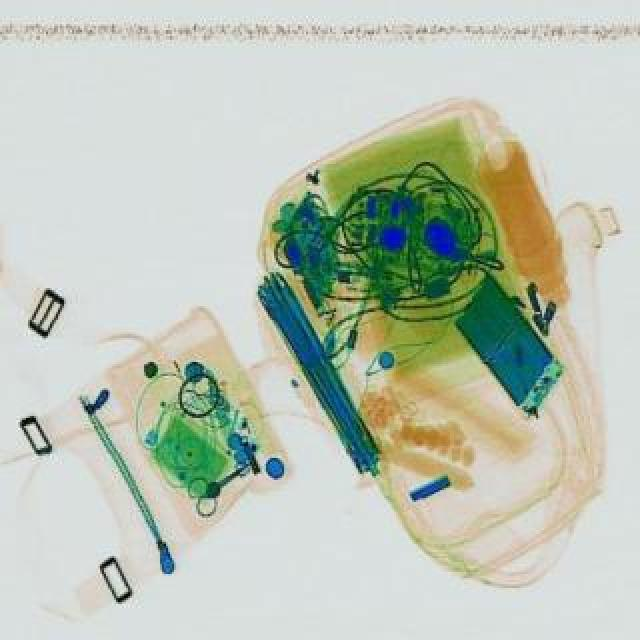pliers: (178, 450, 262, 518)
